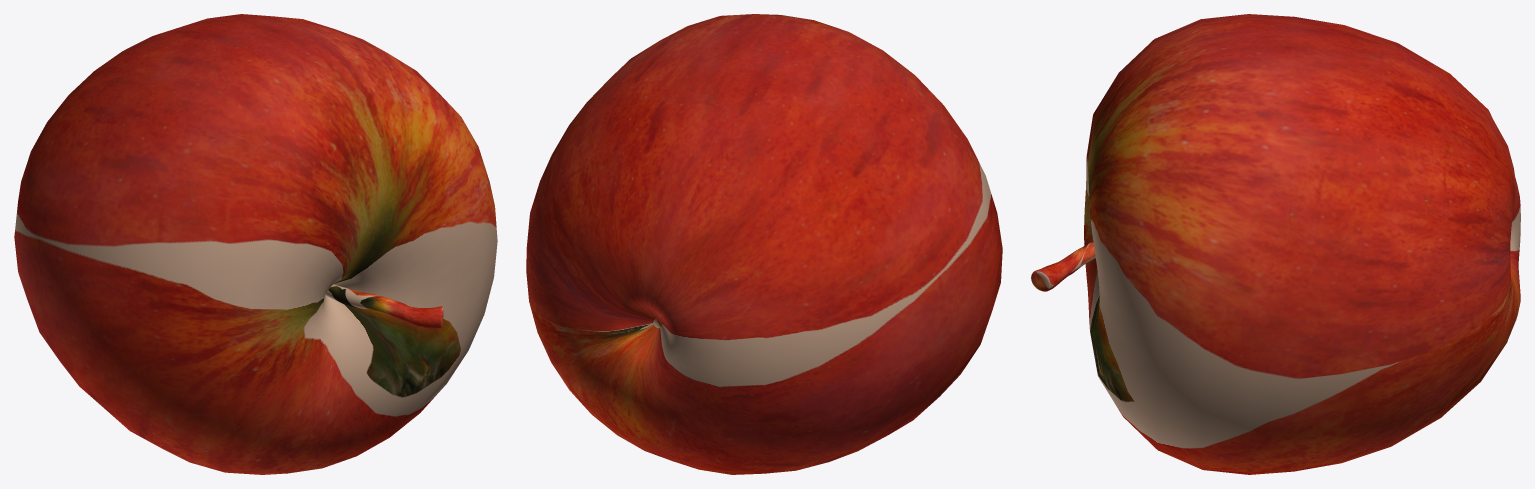
3 renders of one model, left to right at view 1: azimuth 30°, elevation 25°; view 2: azimuth 150°, elevation 25°; view 3: azimuth 270°, elevation 25°, orthographic.
Size of the model in its own units: 0.9816 by 0.9415 by 1.
